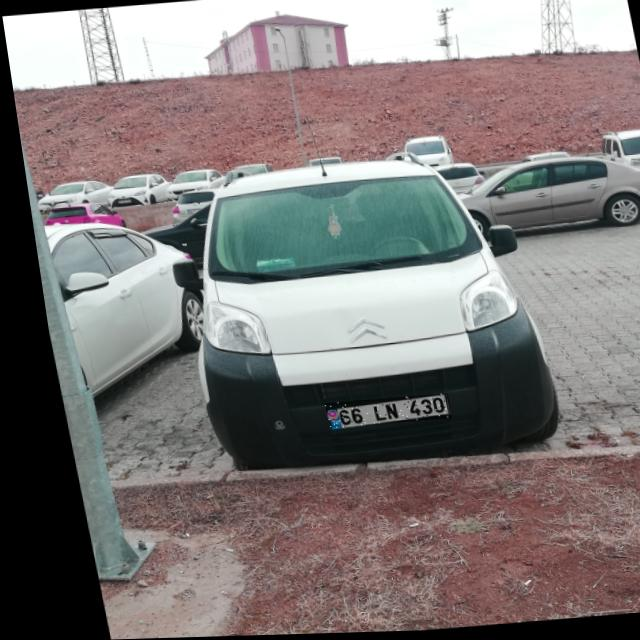license_plate: (311, 395, 440, 430)
